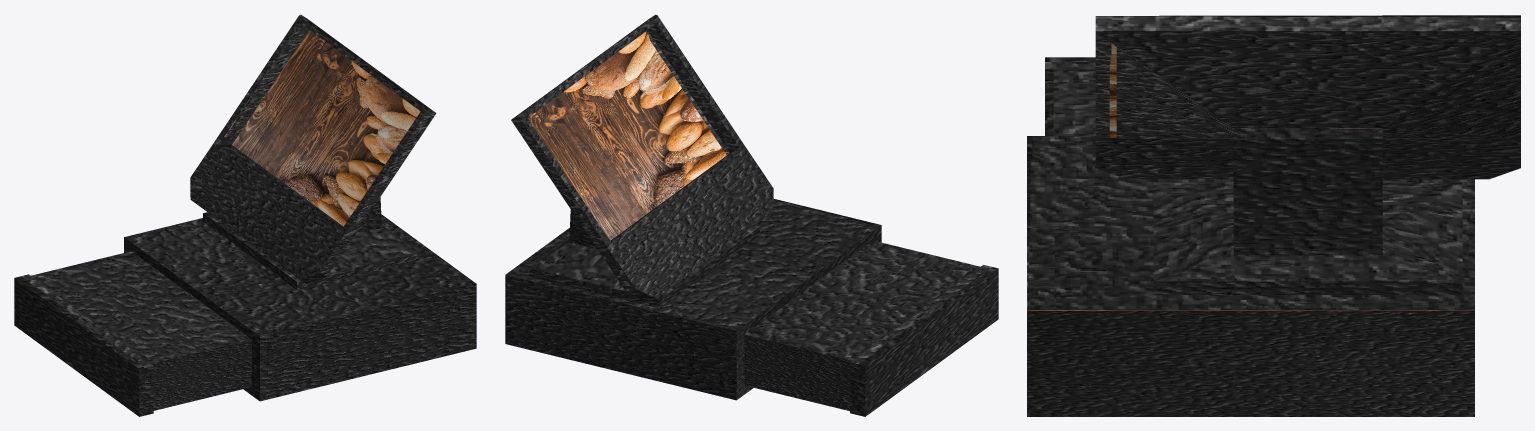
Rendered from sm_cajaa.fbx.
3 renders of one model, left to right at view 1: azimuth 30°, elevation 25°; view 2: azimuth 150°, elevation 25°; view 3: azimuth 270°, elevation 25°, orthographic. The views are drawn at different scales.
Visible parts, largest first — view 1: SM_CajaRegistradora; view 2: SM_CajaRegistradora; view 3: SM_CajaRegistradora.
Part boxes in pixels (x1,y1,x2,y2): SM_CajaRegistradora: [14, 14, 476, 416]; SM_CajaRegistradora: [505, 14, 998, 416]; SM_CajaRegistradora: [1027, 15, 1520, 416].
Bounding box in the file's own units: 80.45 × 53.64 × 62.94.
Materials: 1 (1 with a texture image).
